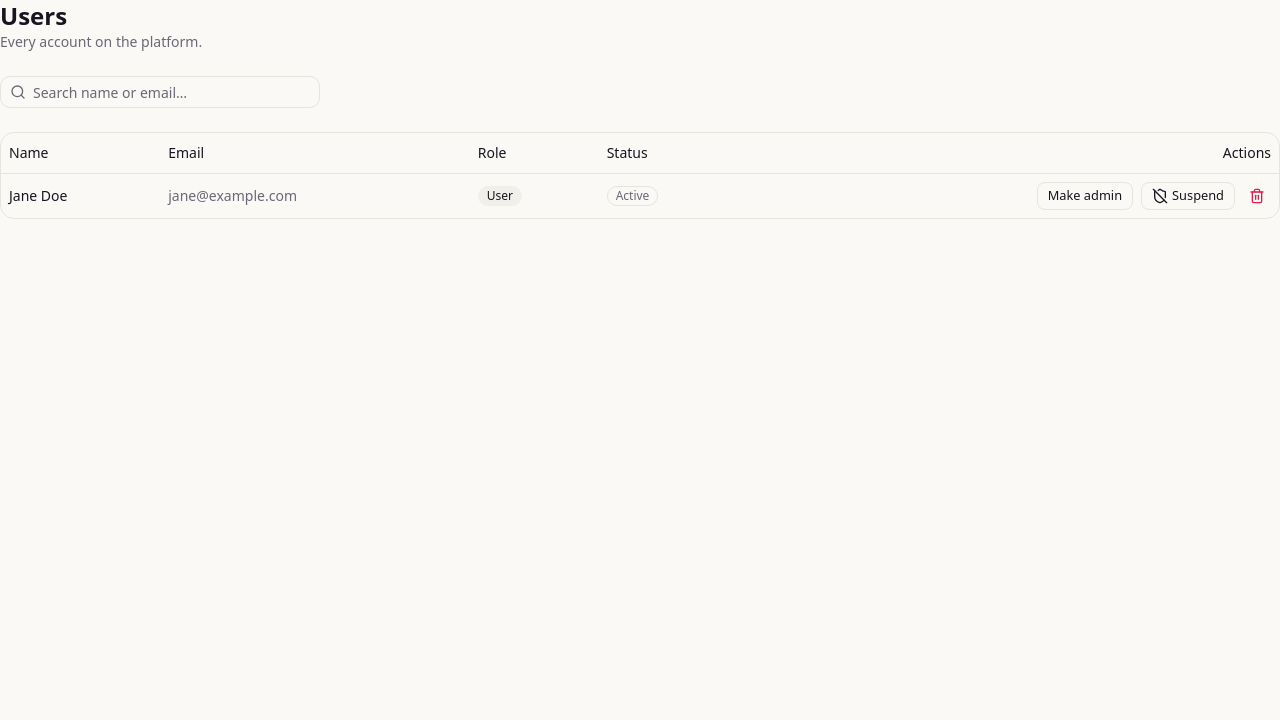
Scenario: AdminUsersPage › shows the servers block-reason message when deletion is refused
The image size is (1280, 720).
Expected: the text "Jane Doe" is shown, [1,173,160,218]
Click the button named "delete". click: (1257,196)
box: [1243,182,1271,210]
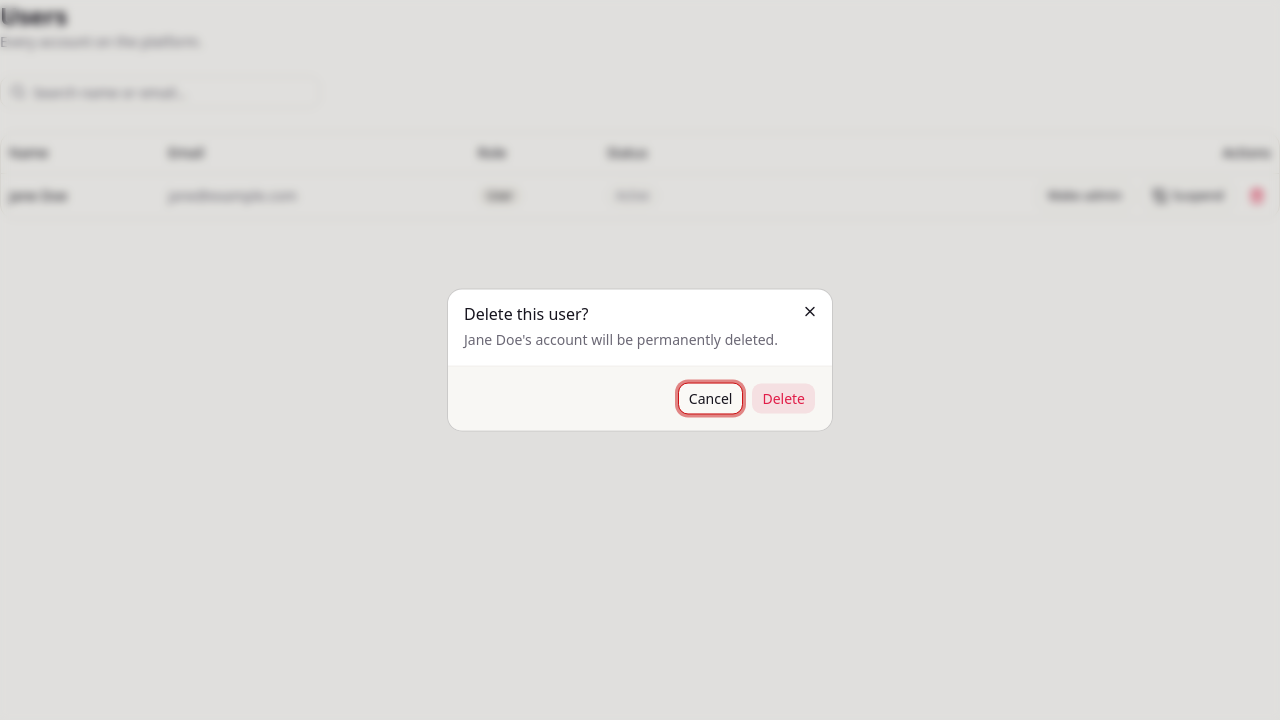
Click the button "Delete". click: (784,398)
box: [751,382,816,414]
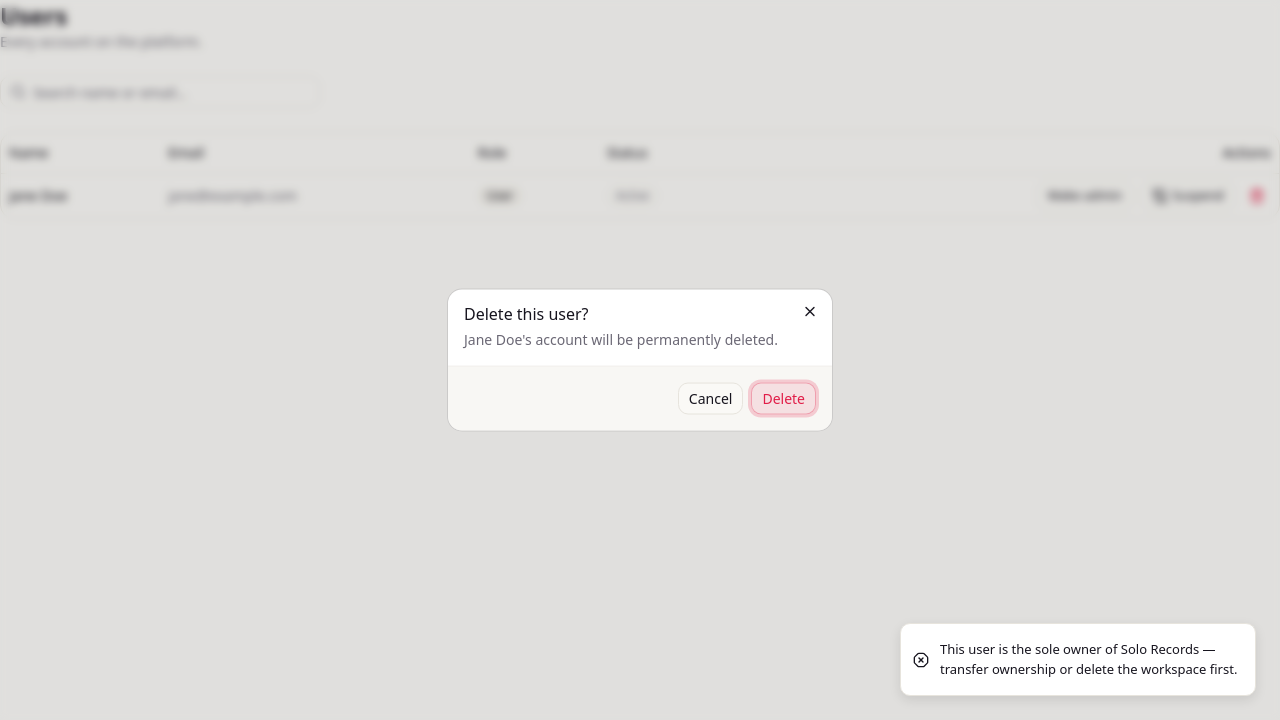
Expected: the text "sole owner of Solo Records" is shown, [940,640,1237,678]
